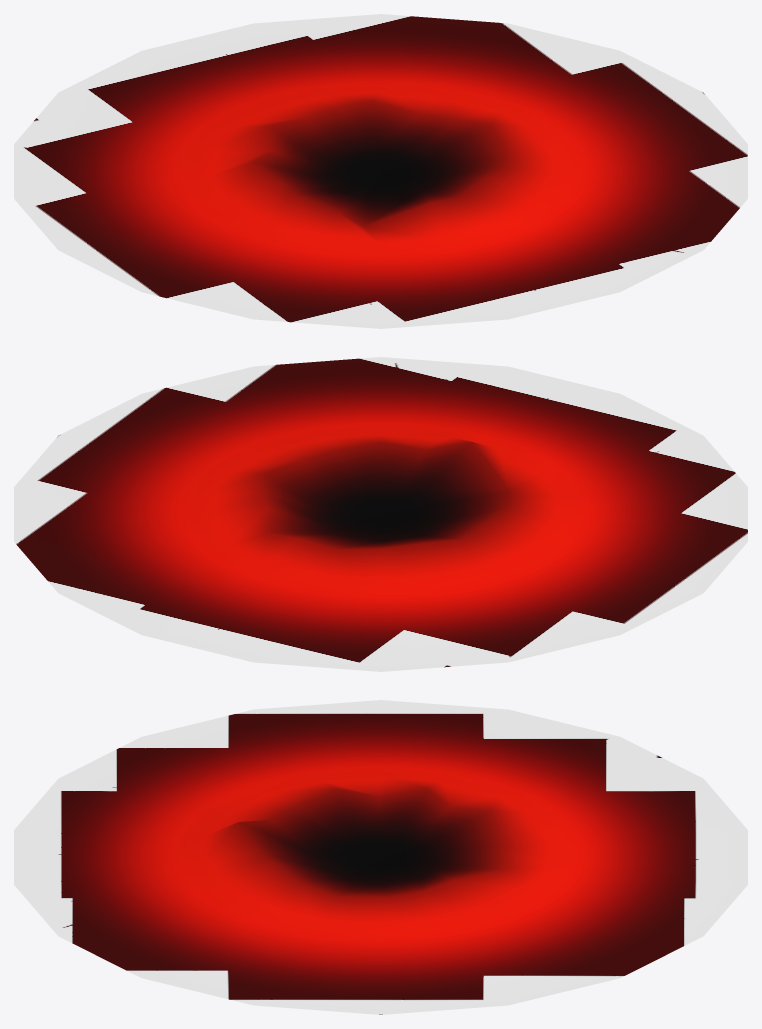
Rendered from dilie_big.FBX.
3 renders of one model, top to bottom at view 1: azimuth 30°, elevation 25°; view 2: azimuth 150°, elevation 25°; view 3: azimuth 270°, elevation 25°, orthographic.
Visible parts, largest first — view 1: Object02; view 2: Object02; view 3: Object02.
Part boxes in pixels (x1,y1,x2,y2): Object02: [14, 14, 747, 328]; Object02: [14, 357, 747, 671]; Object02: [14, 700, 747, 1014].
Size of the model in its own units: 134 by 5.08 by 132.
